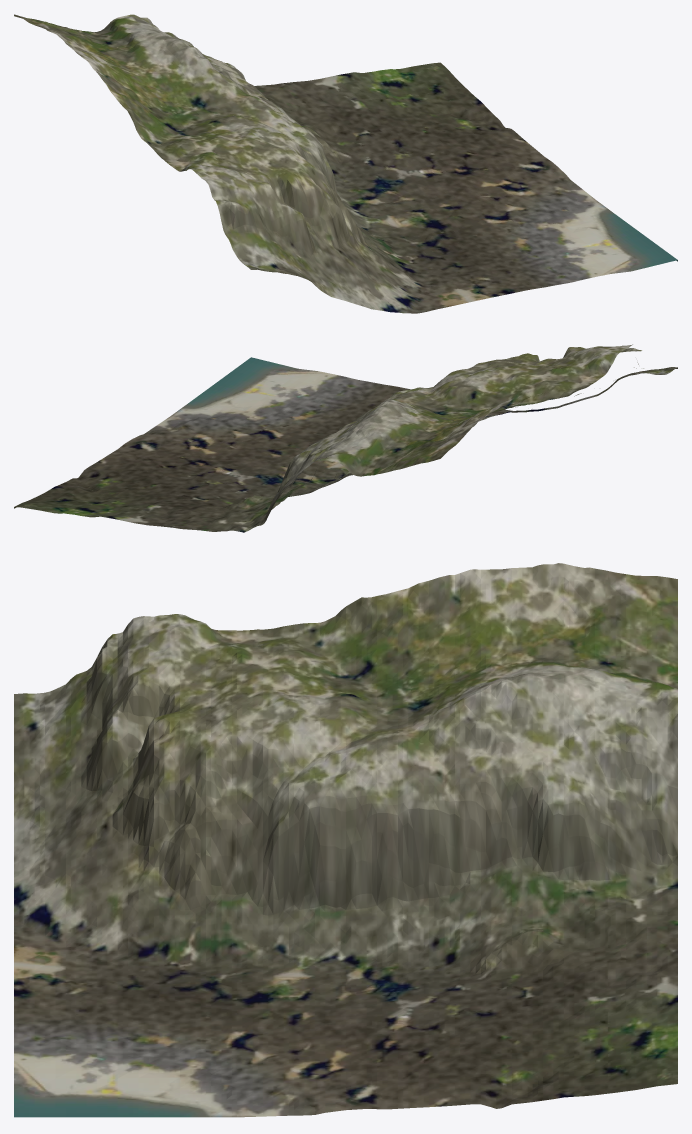
3 renders of one model, top to bottom at view 1: azimuth 30°, elevation 25°; view 2: azimuth 150°, elevation 25°; view 3: azimuth 270°, elevation 25°, orthographic. The views are drawn at different scales.
Bounding box in the file's own units: 250 × 106 × 241.
1 material, 1 textured.
